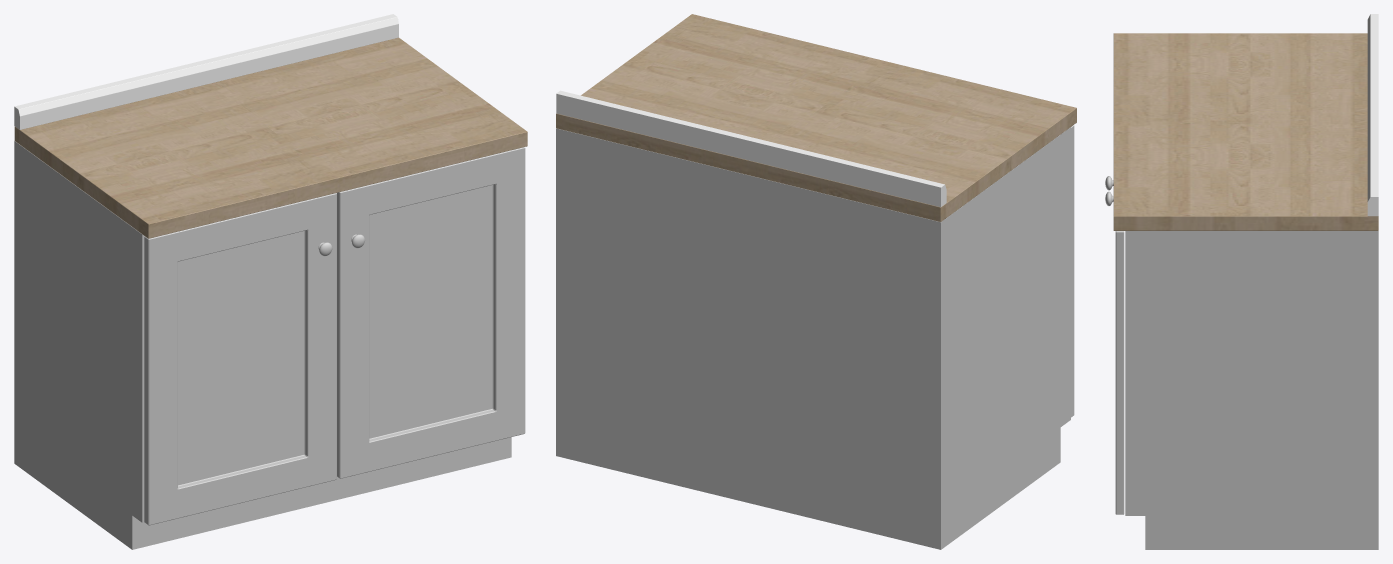
Rendered from kitchen_cabinet.glb.
The picture shows the model from 3 angles, left to right: view 1: azimuth 30°, elevation 25°; view 2: azimuth 150°, elevation 25°; view 3: azimuth 270°, elevation 25°; orthographic projection. The views are drawn at different scales.
Visible parts, largest first — view 1: Door-and-Drawers-Right_Cube.003, Worktop-Right.001_Cube.008, Base-unit-Box-Right.001_Cube.014, Plane.000; view 2: Base-unit-Box-Right.001_Cube.014, Worktop-Right.001_Cube.008, Plane.000, Door-and-Drawers-Right_Cube.003; view 3: Base-unit-Box-Right.001_Cube.014, Worktop-Right.001_Cube.008, Door-and-Drawers-Right_Cube.003, Plane.000.
Part boxes in pixels (x1,y1,x2,y2): Door-and-Drawers-Right_Cube.003: [144, 147, 525, 525]; Worktop-Right.001_Cube.008: [14, 37, 527, 238]; Base-unit-Box-Right.001_Cube.014: [14, 141, 511, 549]; Plane.000: [14, 14, 398, 129]; Base-unit-Box-Right.001_Cube.014: [556, 127, 1070, 549]; Worktop-Right.001_Cube.008: [556, 14, 1076, 221]; Plane.000: [556, 90, 946, 207]; Door-and-Drawers-Right_Cube.003: [1071, 125, 1074, 417]; Base-unit-Box-Right.001_Cube.014: [1125, 231, 1378, 549]; Worktop-Right.001_Cube.008: [1113, 33, 1378, 230]; Door-and-Drawers-Right_Cube.003: [1115, 231, 1124, 514]; Plane.000: [1367, 14, 1378, 216].
Bounding box in the file's own units: 0.976 × 0.878 × 0.616.
4 materials, 1 textured.
